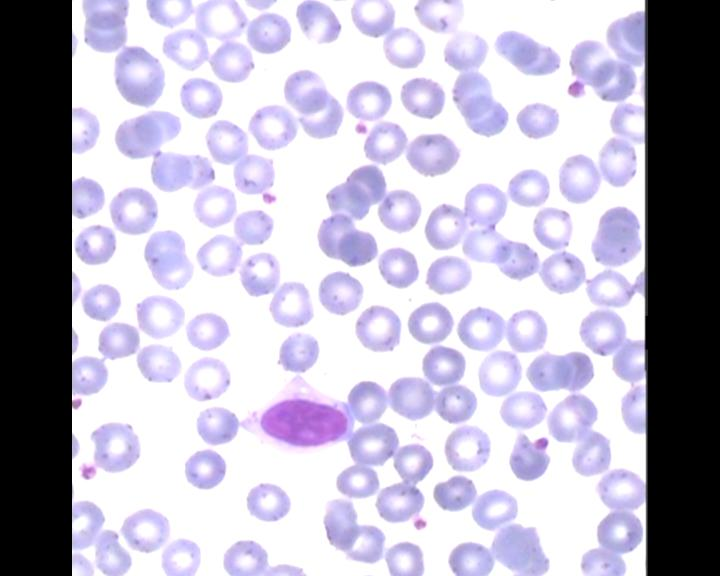mono: (232, 370, 362, 456)
